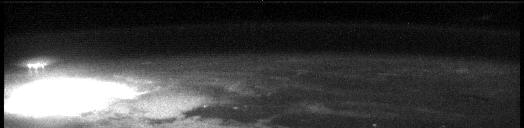negative: (21, 60, 53, 75)
